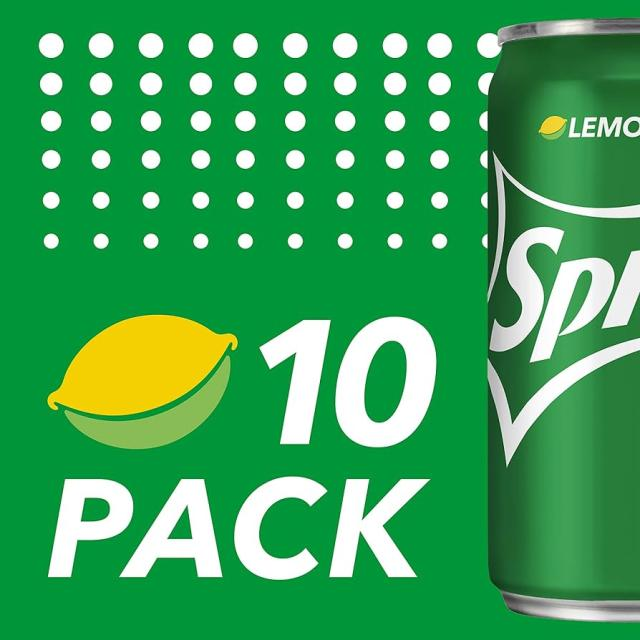sprite: (478, 0, 640, 637)
